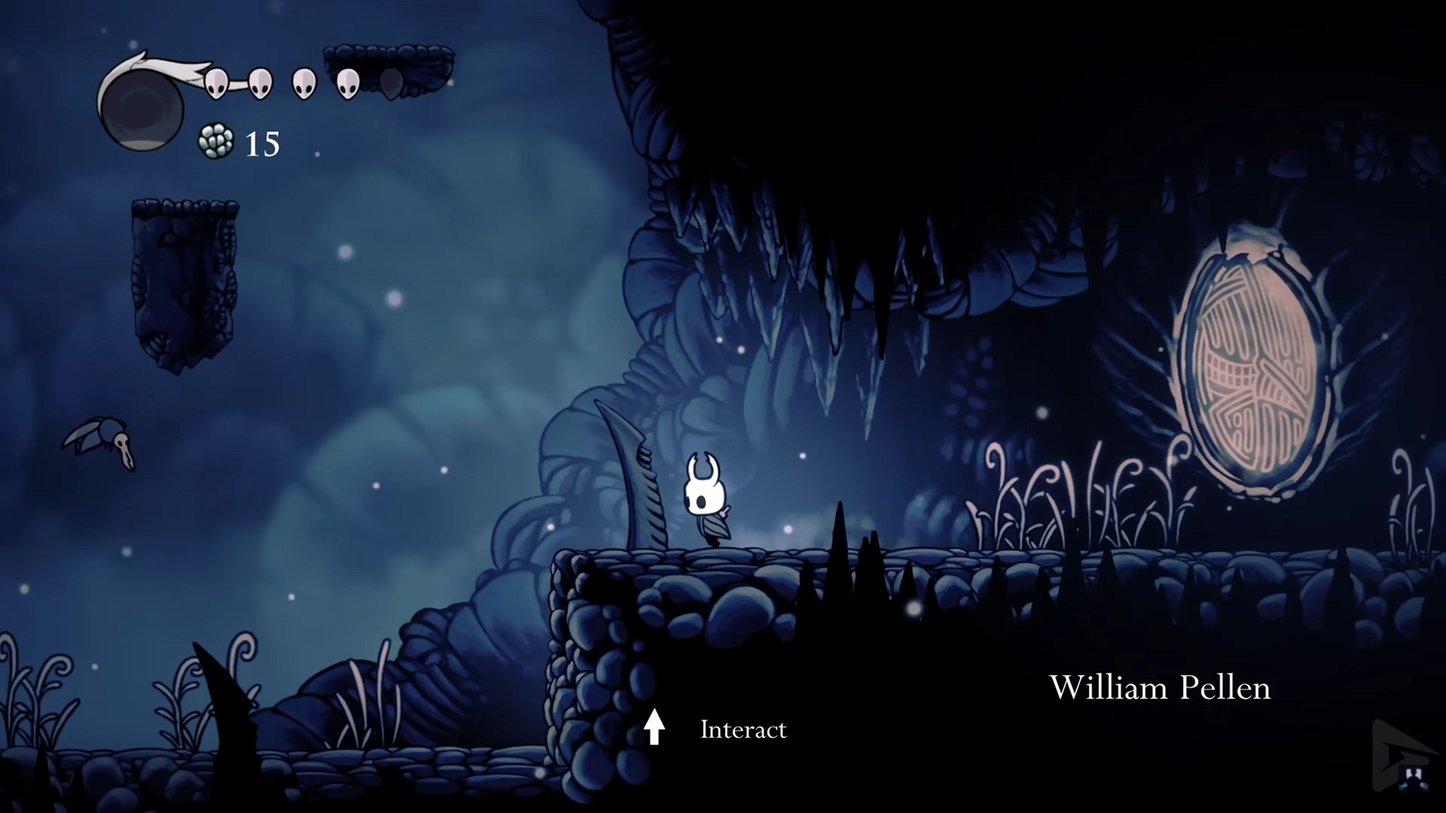HK: (680, 446, 734, 549)
